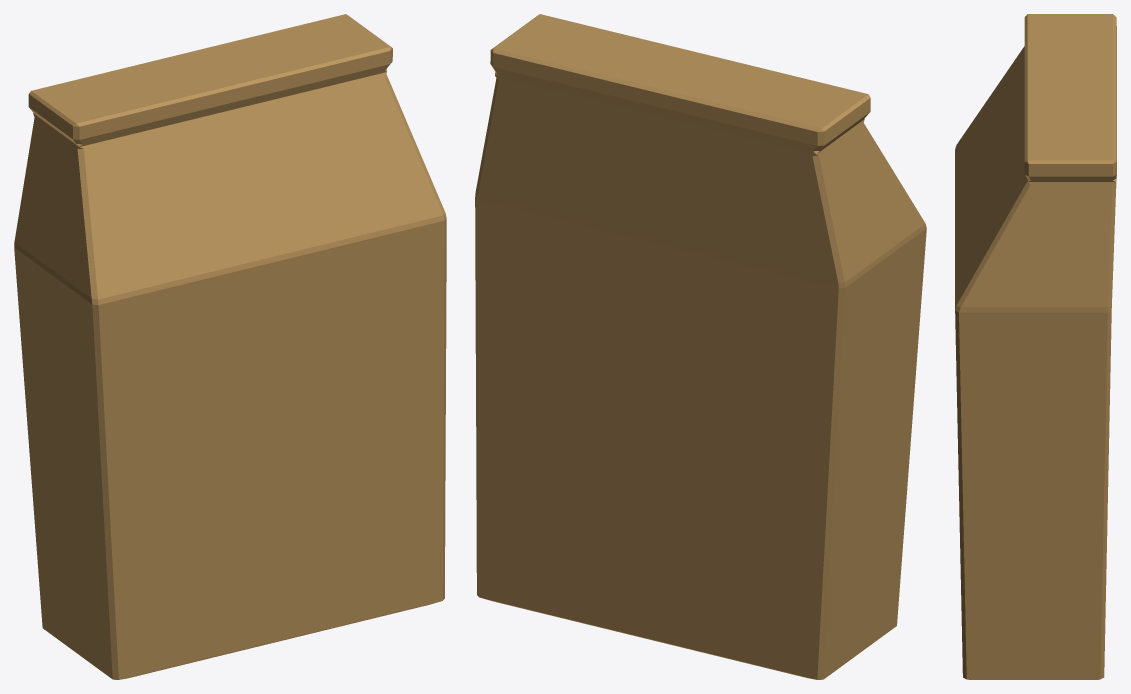
File: seedBag.glb
3 renders of one model, left to right at view 1: azimuth 30°, elevation 25°; view 2: azimuth 150°, elevation 25°; view 3: azimuth 270°, elevation 25°, orthographic. The views are drawn at different scales.
Parts seen in each view (by area): view 1: Cube; view 2: Cube; view 3: Cube.
Boxes of the visible parts, x1=… form: Cube: x1=14, y1=14, x2=446, y2=679; Cube: x1=475, y1=14, x2=926, y2=679; Cube: x1=955, y1=14, x2=1116, y2=679.
Bounding box in the file's own units: 0.2804 × 0.4029 × 0.1156.
